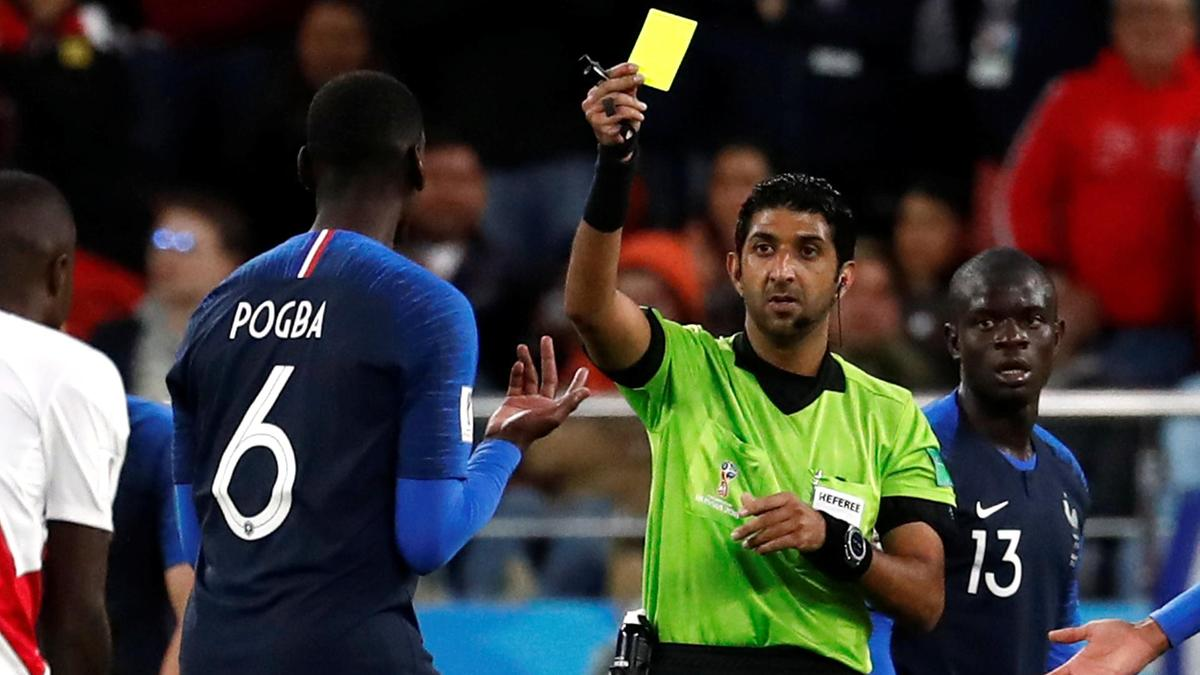yellow_card: (555, 7, 712, 149)
